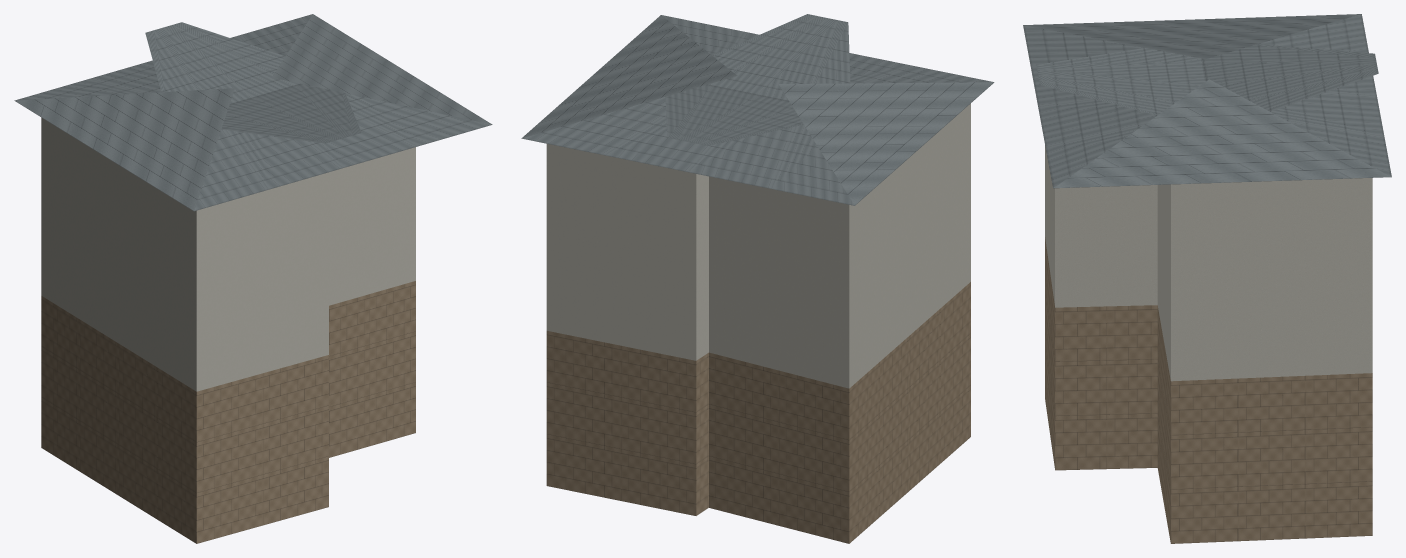
Rendered from bld_c35_-28_448.gltf.
The picture shows the model from 3 angles, left to right: view 1: azimuth 30°, elevation 25°; view 2: azimuth 150°, elevation 25°; view 3: azimuth 270°, elevation 25°; orthographic projection. The views are drawn at different scales.
Visible parts, largest first — view 1: bld_c35_-28_448; view 2: bld_c35_-28_448; view 3: bld_c35_-28_448.
Part boxes in pixels (x1,y1,x2,y2): bld_c35_-28_448: (14, 14, 492, 543); bld_c35_-28_448: (521, 14, 994, 543); bld_c35_-28_448: (1023, 14, 1391, 543).
Size of the model in its own units: 11.72 by 12.5 by 10.48.
3 materials, 3 textured.
